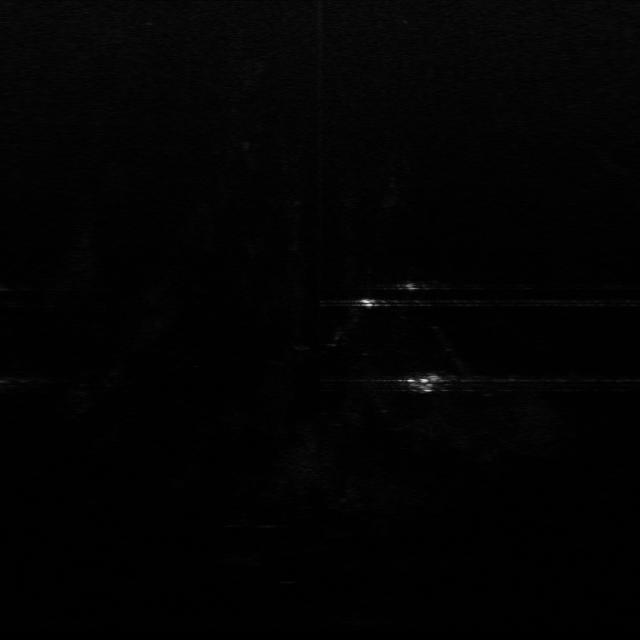rov: (401, 372, 448, 394)
